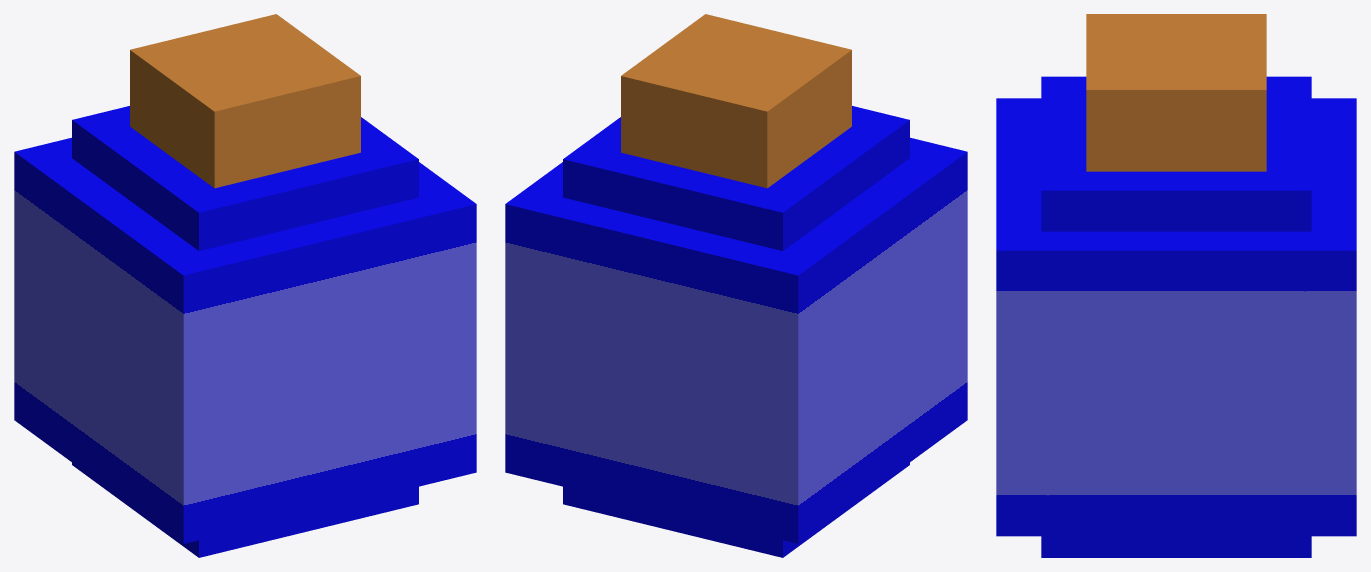
File: PotionBleue.dae
The picture shows the model from 3 angles, left to right: view 1: azimuth 30°, elevation 25°; view 2: azimuth 150°, elevation 25°; view 3: azimuth 270°, elevation 25°; orthographic projection. The views are drawn at different scales.
Parts seen in each view (by area): view 1: MPotion; view 2: MPotion; view 3: MPotion.
Part boxes in pixels (x1,y1,x2,y2): MPotion: (14,14,476,557); MPotion: (505,14,967,557); MPotion: (996,14,1356,557).
Size of the model in its own units: 8 by 11 by 8.
Materials: 1 (1 with a texture image).
